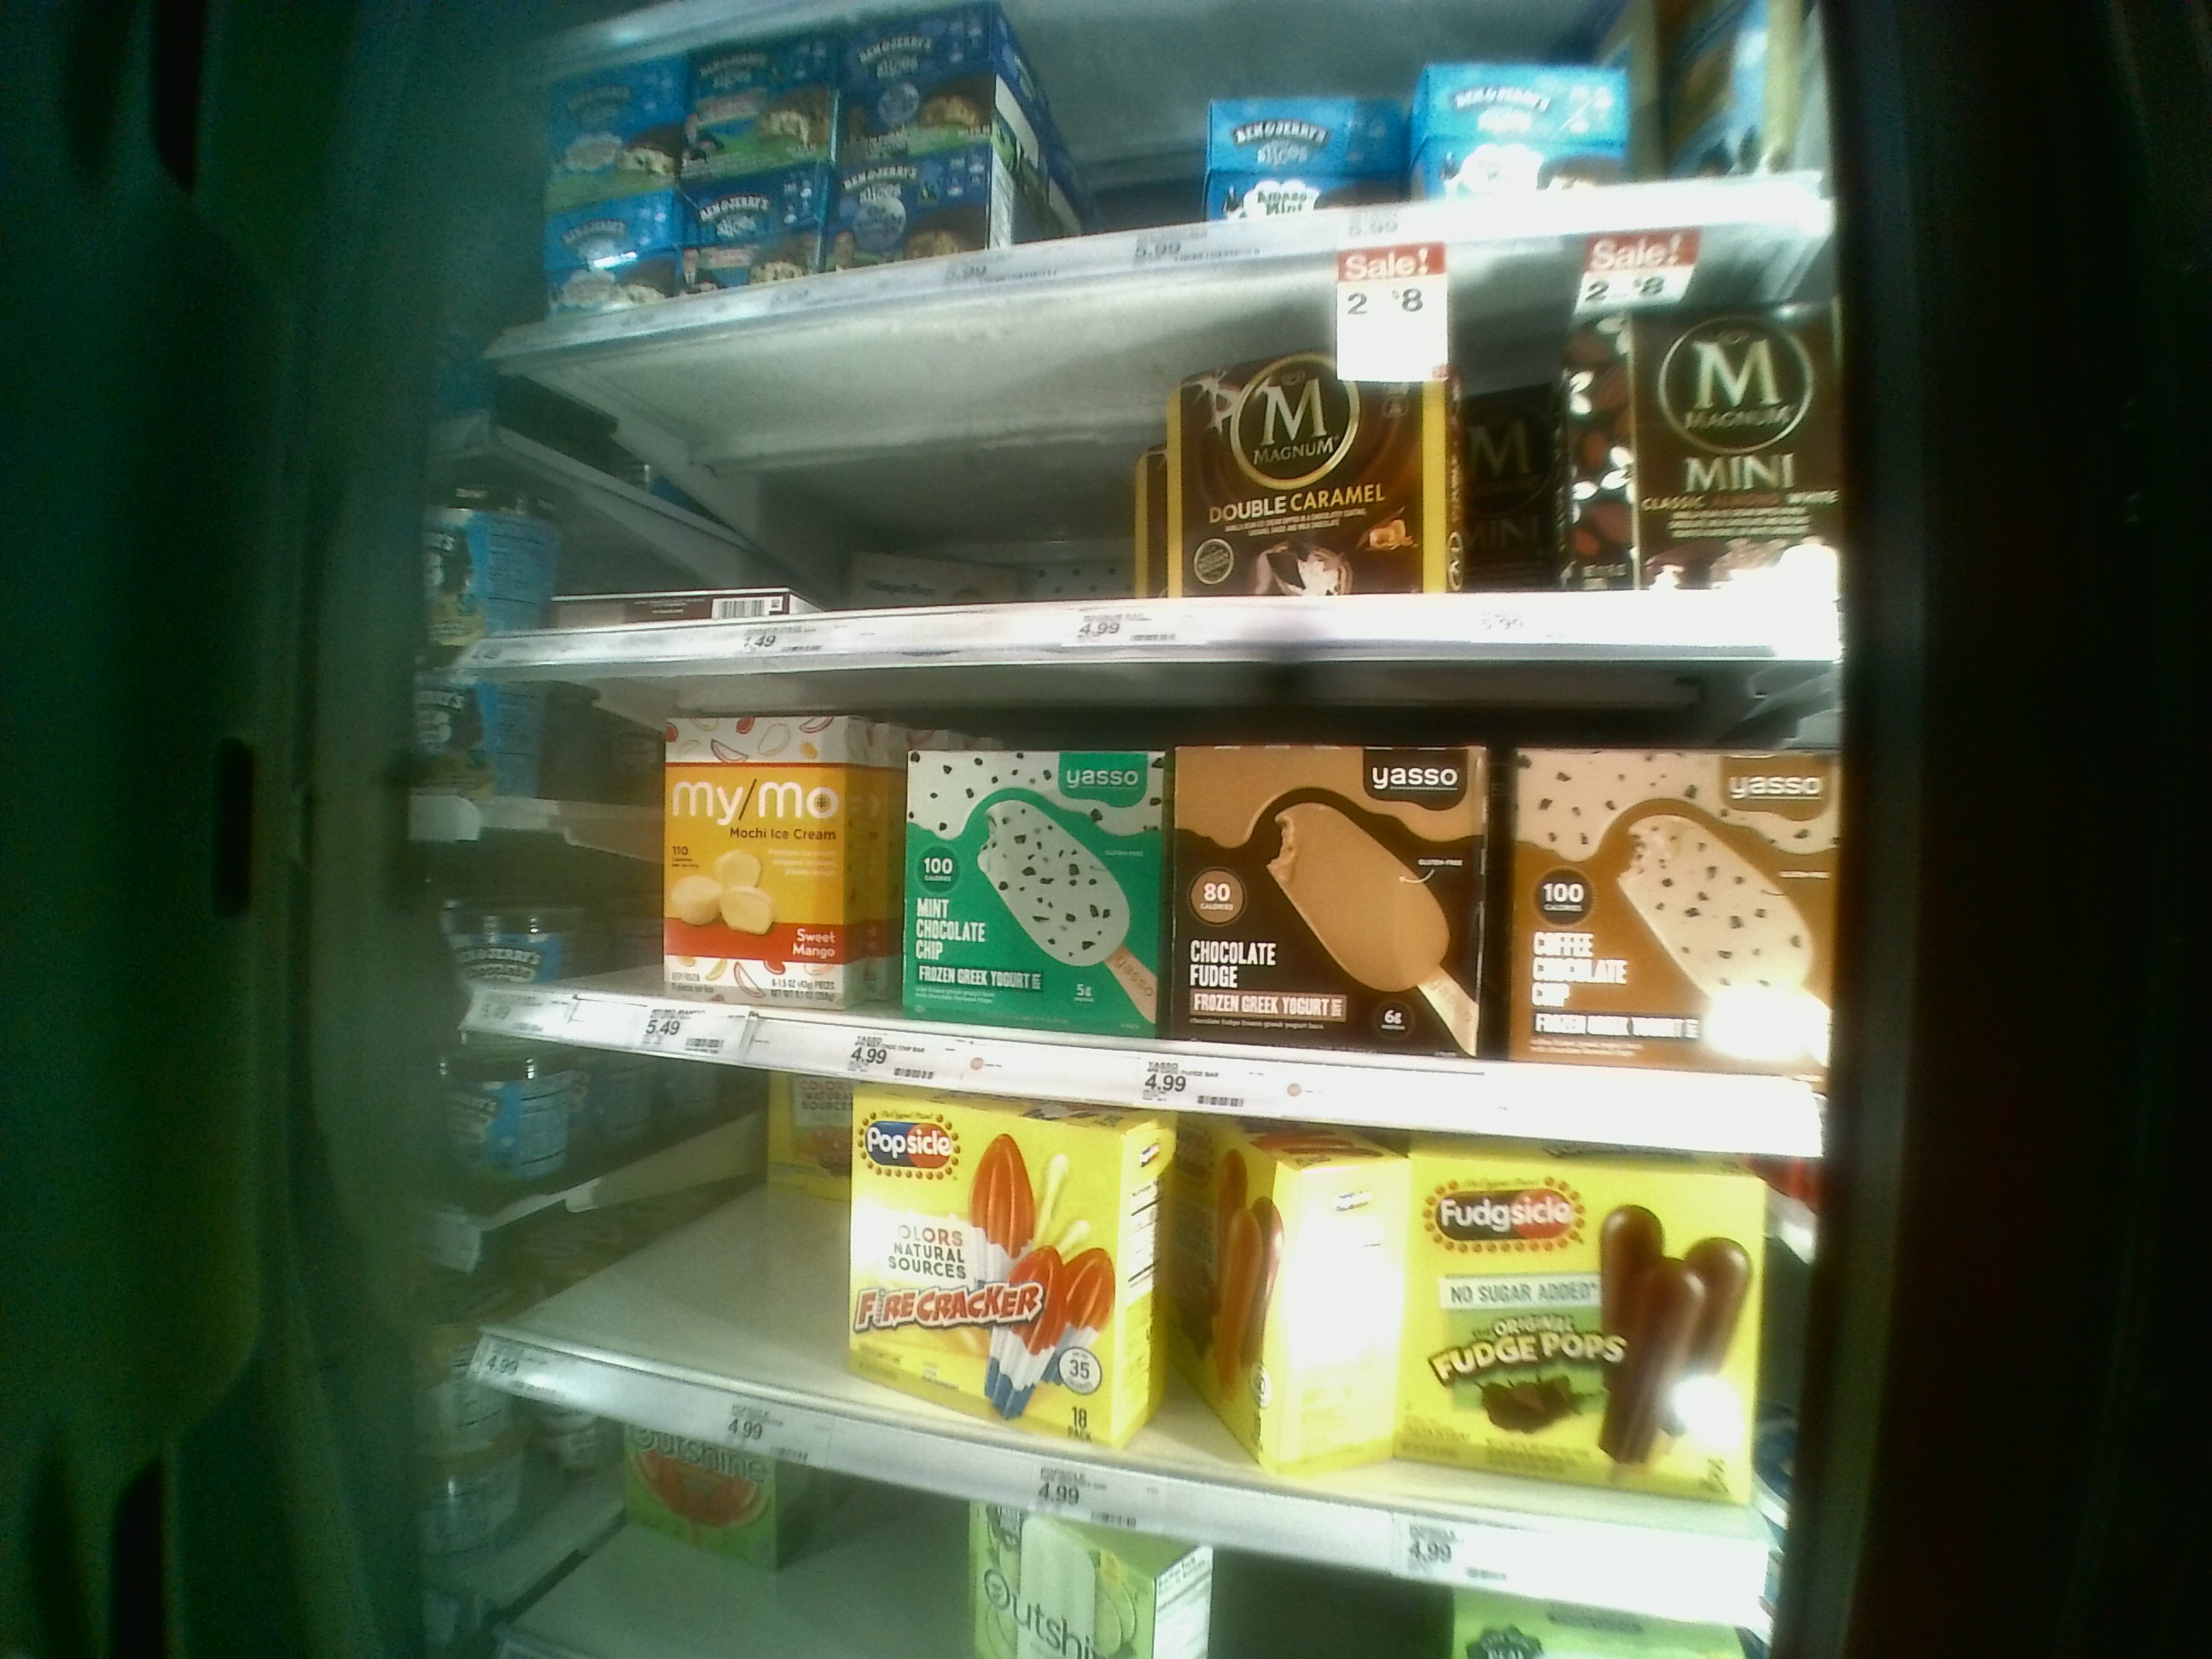shelf: (456, 1028, 1822, 1635), (467, 671, 1832, 1166), (472, 211, 1851, 667)
